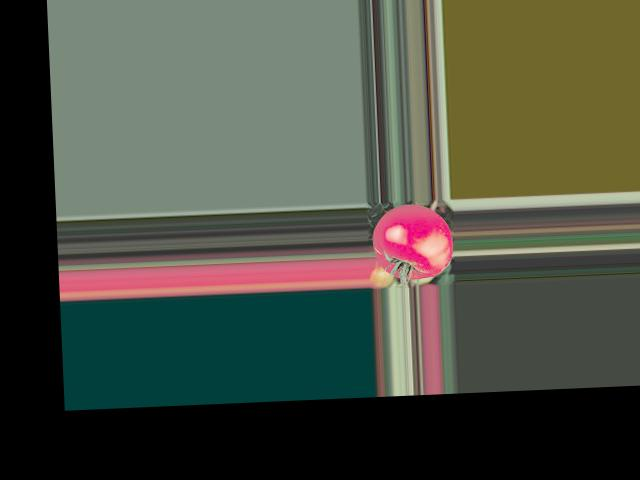tomato: (372, 202, 454, 280)
